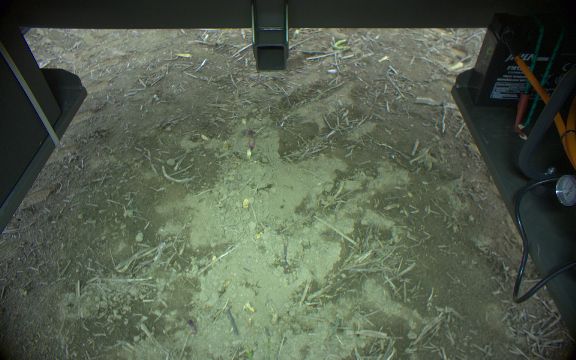aspa: (246, 129, 257, 150), (333, 37, 349, 50)
